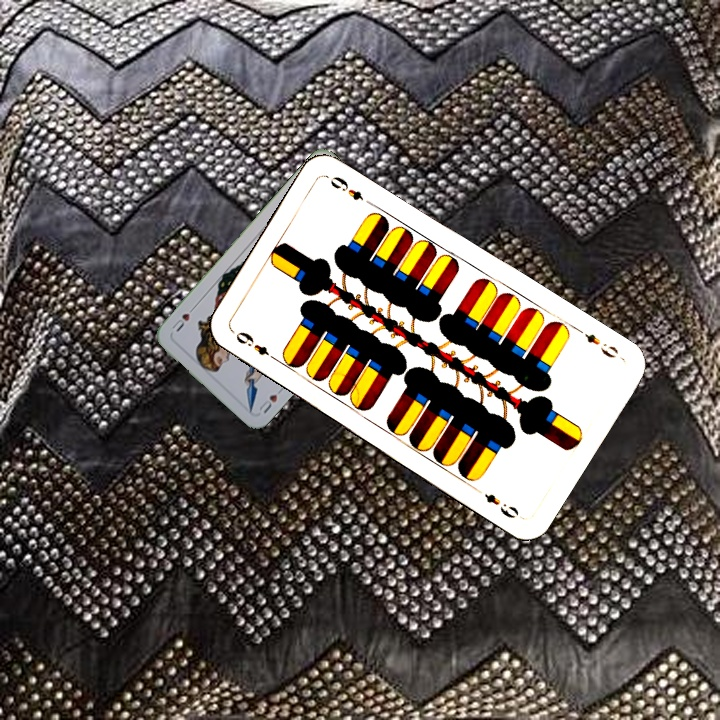E9: (231, 327, 281, 364), (572, 324, 621, 361)
HU: (255, 382, 287, 417)
